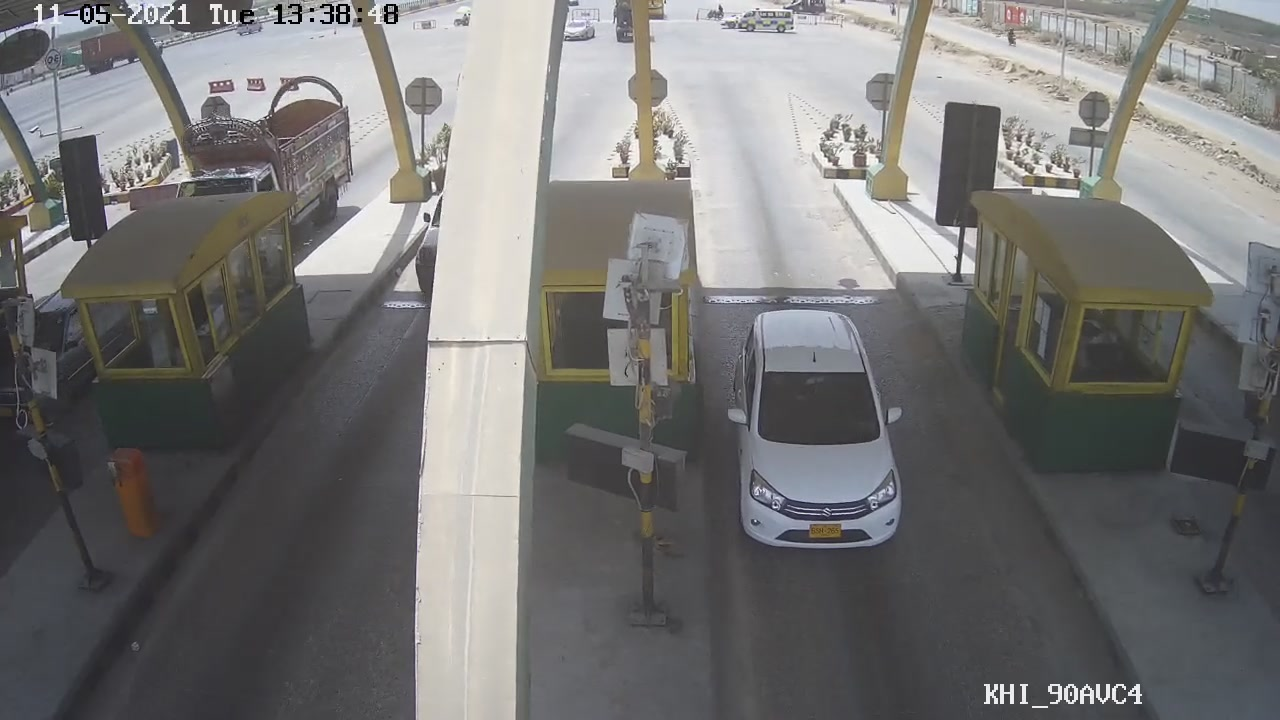F1: (720, 303, 923, 560)
